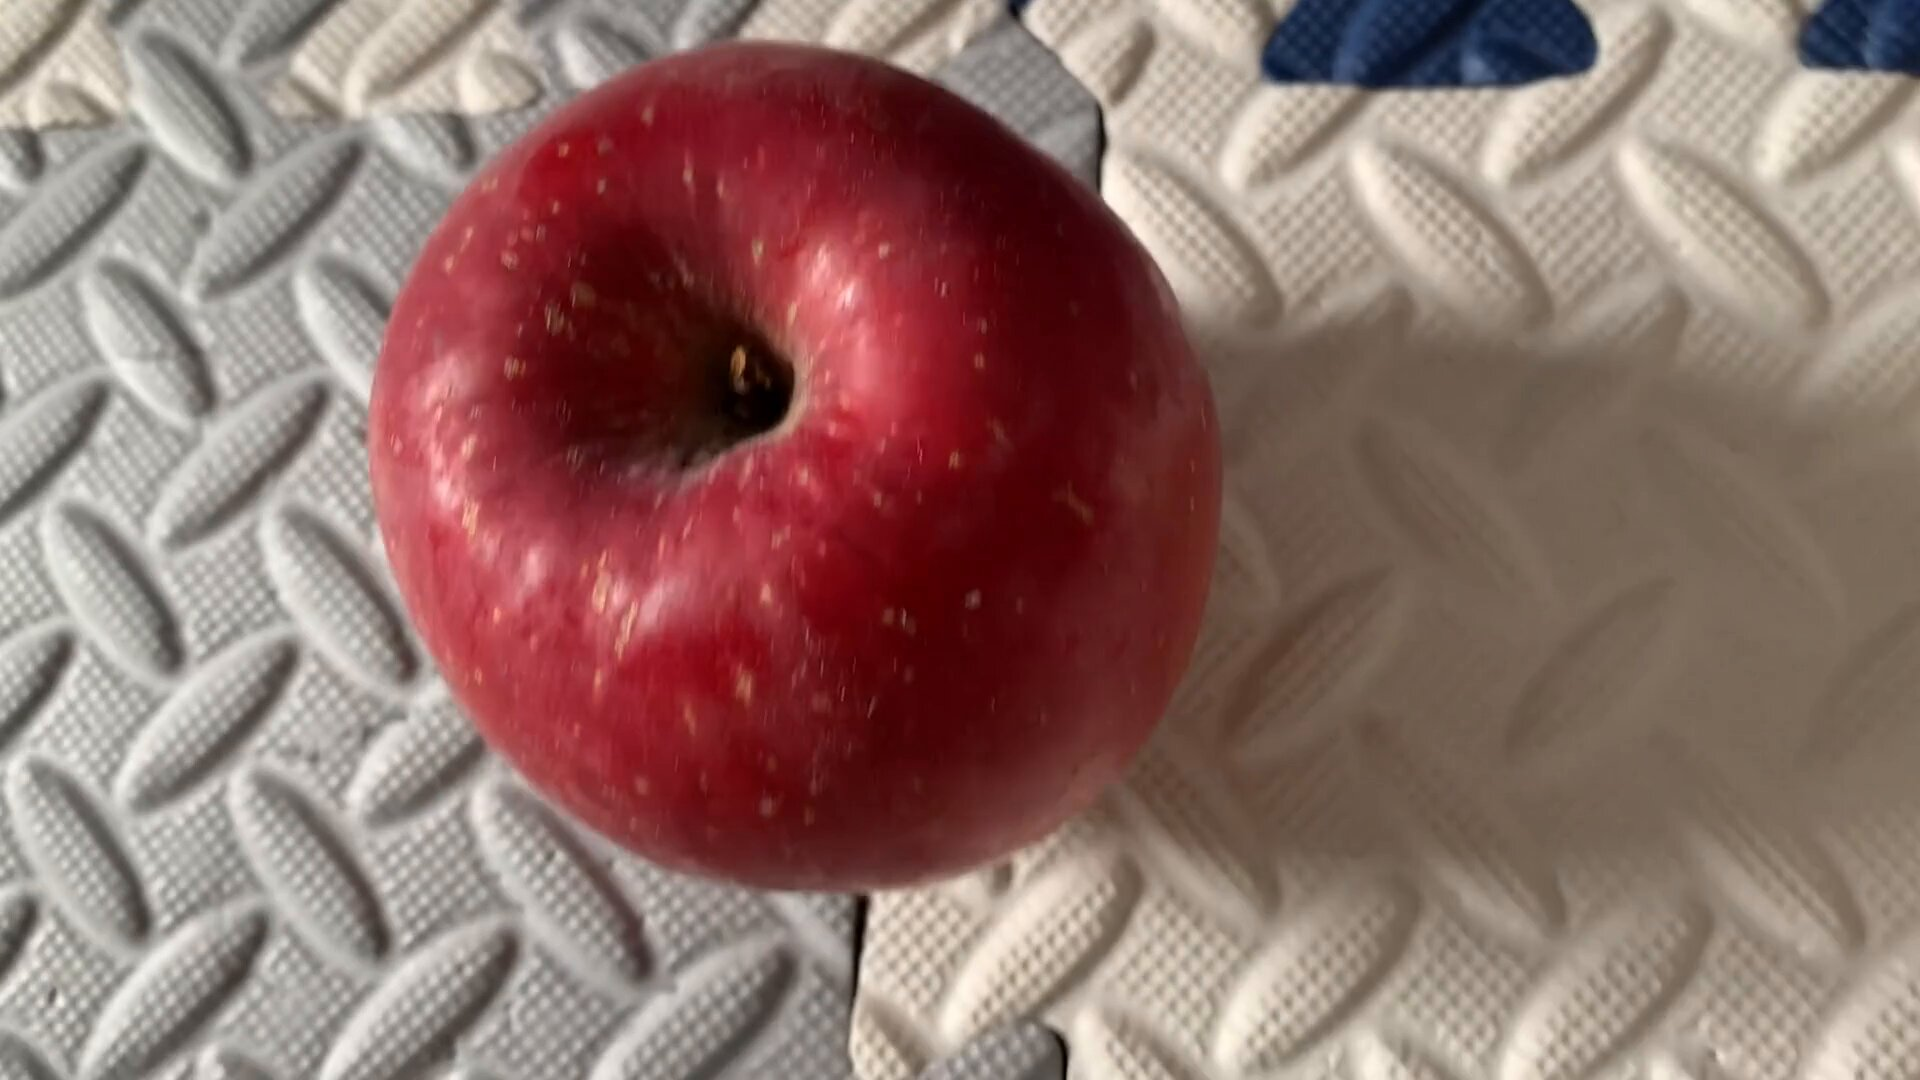不可回收水果: (332, 3, 1271, 907)
